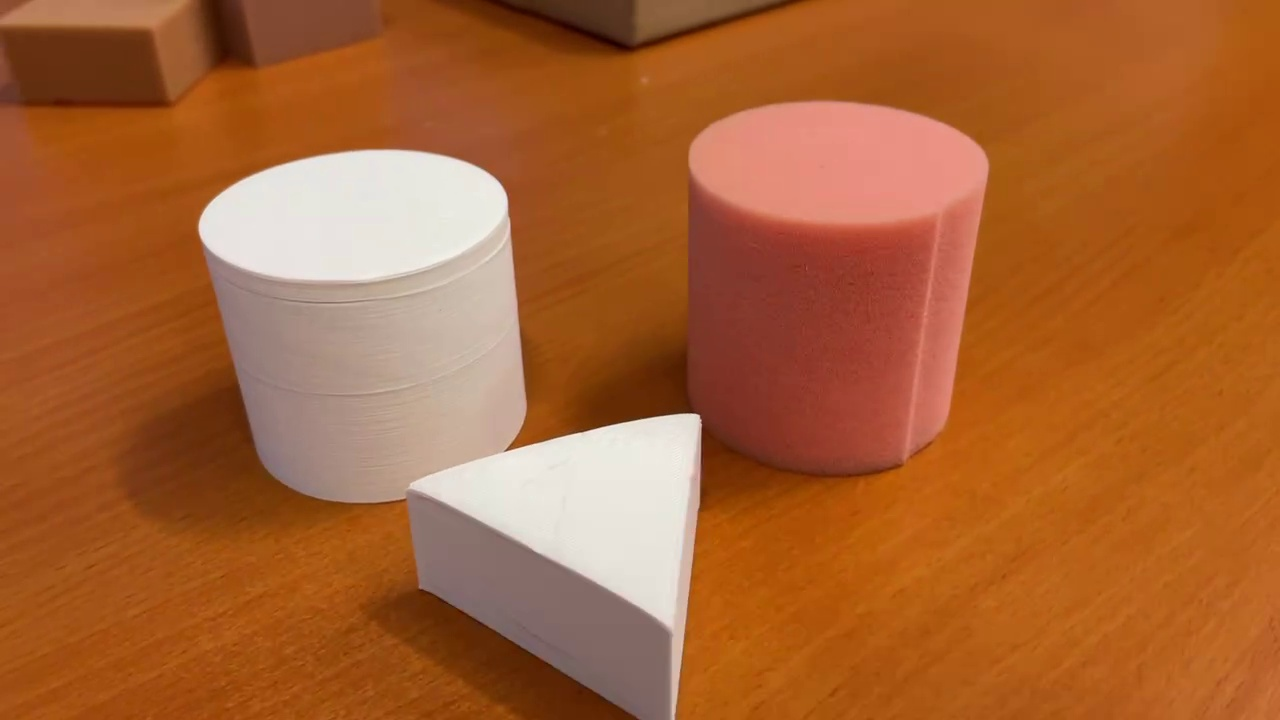Cylinder: (191, 139, 534, 512), (677, 94, 996, 482)
Triangle_short: (403, 407, 715, 720)
